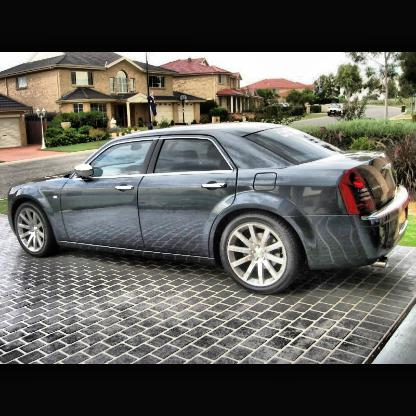Chrysler 300 SRT-8 2010: (10, 128, 410, 293)
